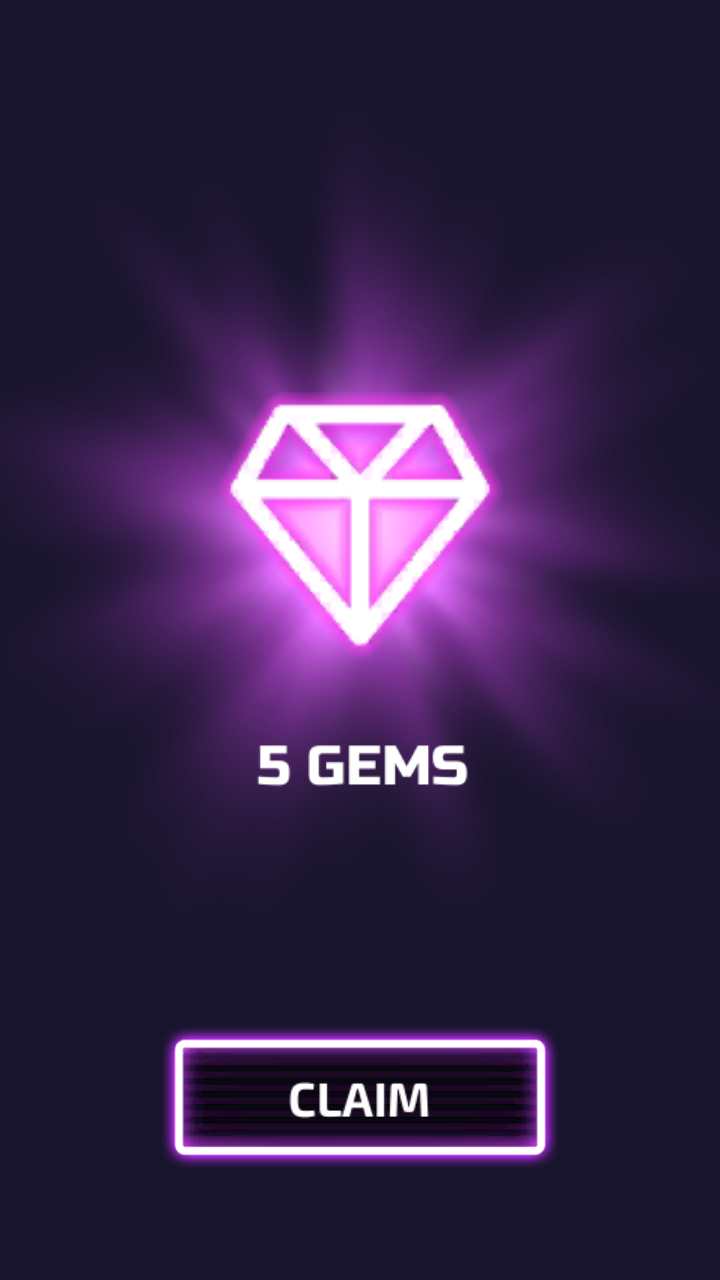GA_Claim_Gems: (164, 1027, 555, 1163)
